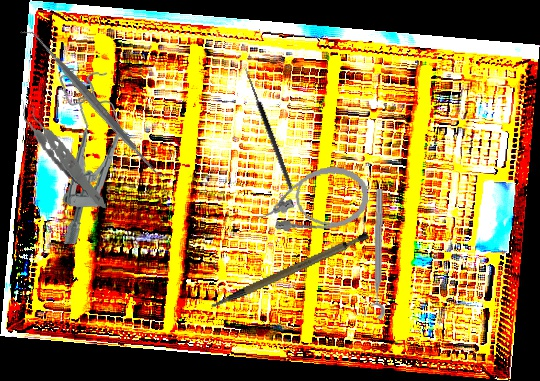Cannula: (251, 162, 372, 239)
Fixation Ring: (362, 188, 388, 320)
Hook Surgical: (236, 65, 295, 193)
Scalpel Handle: (201, 229, 377, 310)
Spatula Surgical: (18, 18, 171, 189)
Speculum: (50, 67, 124, 247)
Tissue Forceps: (20, 87, 107, 218)
